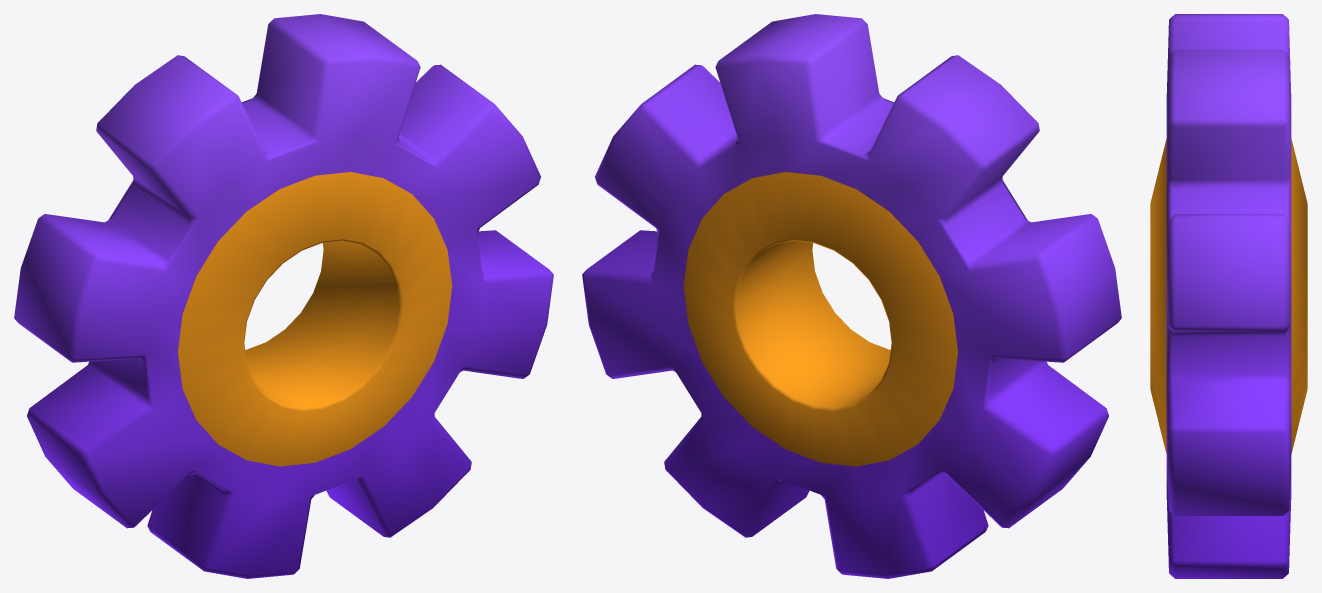
File: Collectable_Gear_01.fbx
3 renders of one model, left to right at view 1: azimuth 30°, elevation 25°; view 2: azimuth 150°, elevation 25°; view 3: azimuth 270°, elevation 25°, orthographic.
Visible parts, largest first — view 1: Collectable_Gear_01; view 2: Collectable_Gear_01; view 3: Collectable_Gear_01.
Part boxes in pixels (bbox=[...]): Collectable_Gear_01: bbox=[14, 14, 553, 578]; Collectable_Gear_01: bbox=[582, 14, 1121, 578]; Collectable_Gear_01: bbox=[1150, 14, 1307, 578].
Bounding box in the file's own units: 79.41 × 79.41 × 22.17.
